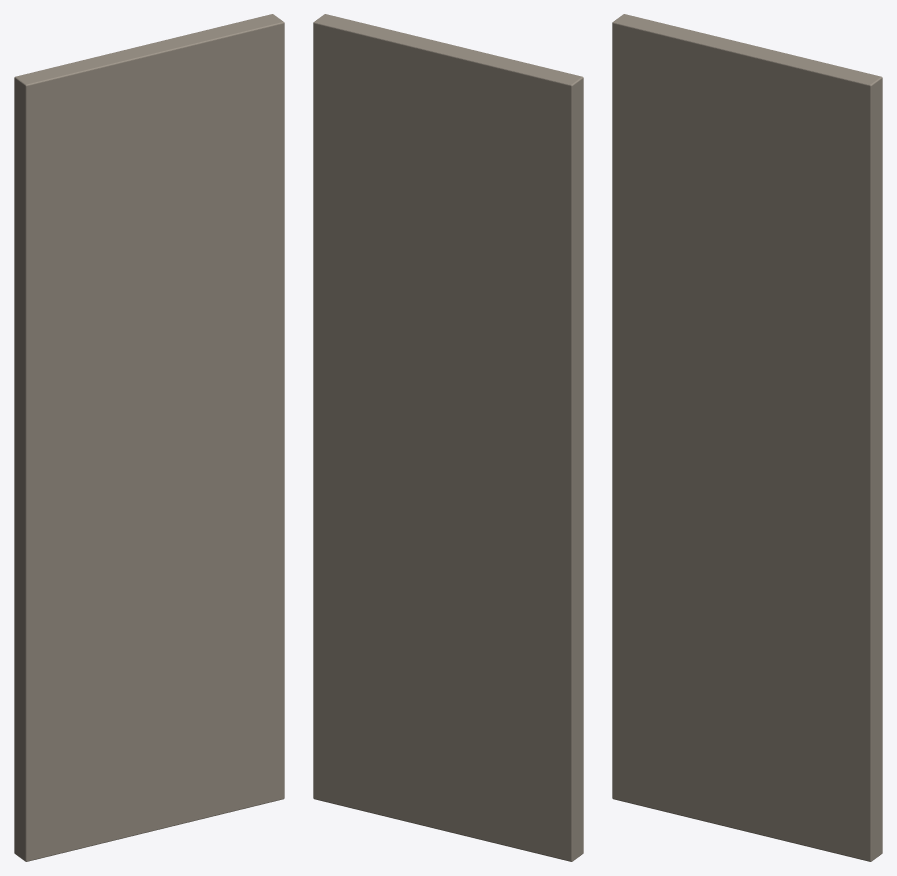
File: SM_Dormitory_Elevator_Door_Left.fbx
The picture shows the model from 3 angles, left to right: view 1: azimuth 30°, elevation 25°; view 2: azimuth 150°, elevation 25°; view 3: azimuth 330°, elevation 25°; orthographic projection.
Parts seen in each view (by area): view 1: DORM_INT_Elevator_Door_Left.001; view 2: DORM_INT_Elevator_Door_Left.001; view 3: DORM_INT_Elevator_Door_Left.001.
Boxes of the visible parts, x1=… form: DORM_INT_Elevator_Door_Left.001: x1=14, y1=14, x2=284, y2=861; DORM_INT_Elevator_Door_Left.001: x1=313, y1=14, x2=583, y2=861; DORM_INT_Elevator_Door_Left.001: x1=612, y1=14, x2=882, y2=861.
Bounding box in the file's own units: 69.1 × 5.5 × 198.
